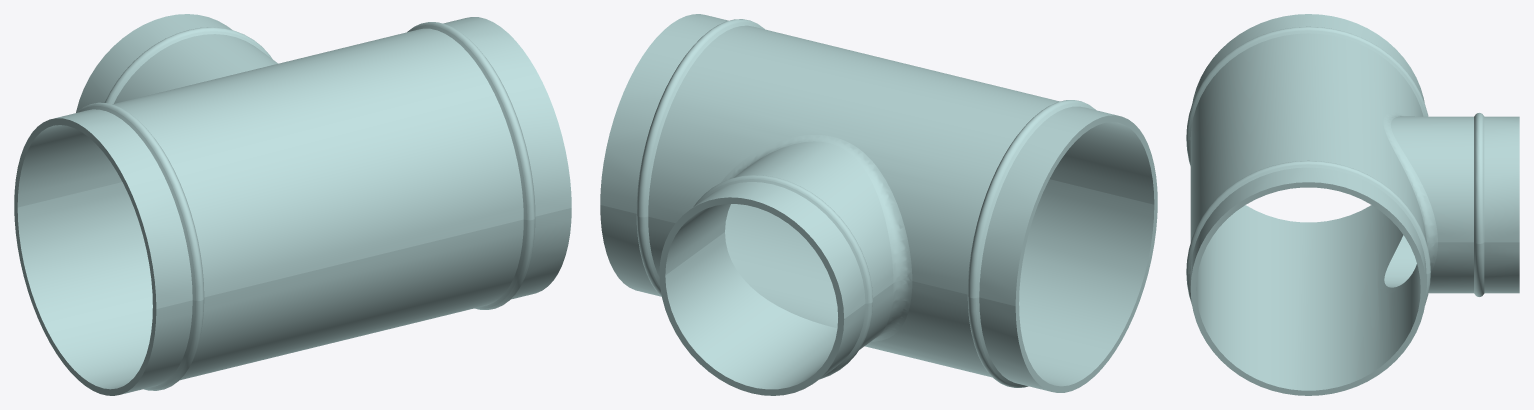
The picture shows the model from 3 angles, left to right: view 1: azimuth 30°, elevation 25°; view 2: azimuth 150°, elevation 25°; view 3: azimuth 270°, elevation 25°; orthographic projection. The views are drawn at different scales.
Bounding box in the file's own units: 345 × 212 × 289.
